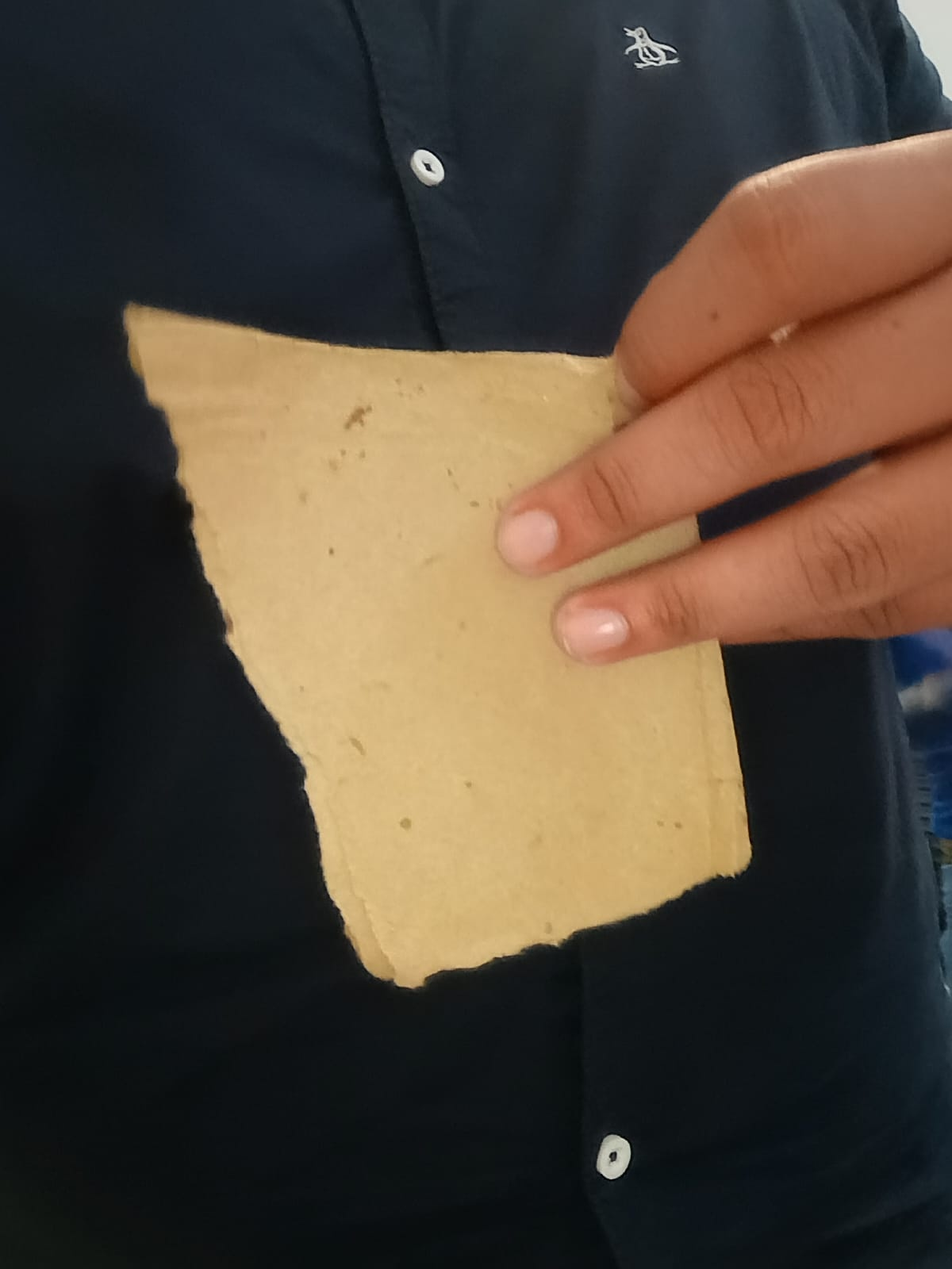Carton: (126, 303, 751, 986)
